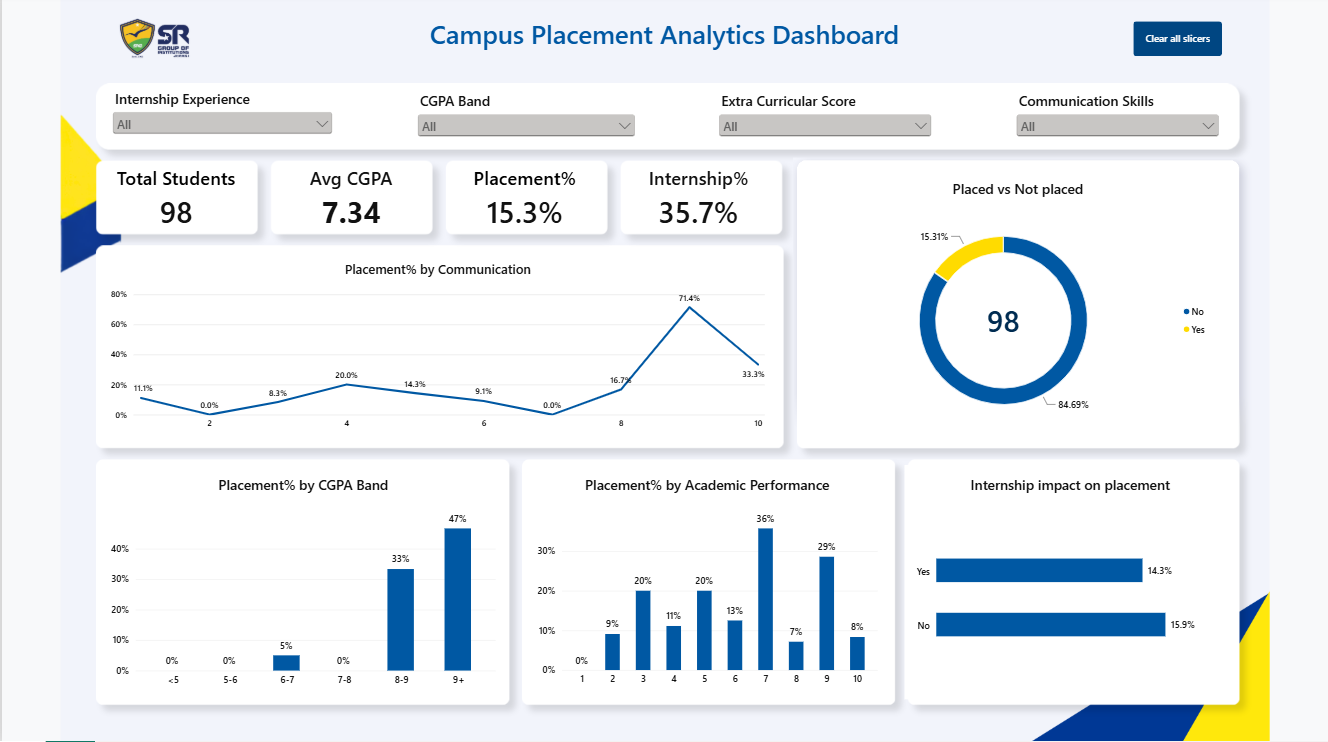

This screenshot's page, from the dashboard's own definition file:
{"tool":"powerbi","page":{"name":"Overview","canvas":[1920,1080],"ordinal":0},"visuals":[{"type":"textbox","box":[532.9,30.8,854.2,67],"z":0},{"type":"image","box":[141.2,29,159.3,67],"z":1},{"type":"actionButton","box":[1637.7,38,128.5,50.7],"z":2},{"type":"slicer","fields":{"Values":["college_student_placement_dataset.Internship_Experience"]},"box":[155.6,135.7,327.5,83.2],"z":3},{"type":"slicer","fields":{"Values":["college_student_placement_dataset.CGPA Band"]},"box":[596.6,139.3,323.9,79.6],"z":4},{"type":"slicer","fields":{"Values":["college_student_placement_dataset.Extra_Curricular_Score"]},"box":[1033.9,139.3,316.7,79.6],"z":5},{"type":"slicer","fields":{"Values":["college_student_placement_dataset.Communication_Skills"]},"box":[1464,139.3,302.2,79.6],"z":6},{"type":"cardVisual","fields":{"Data":["_Measures.Total Students"]},"box":[140.5,250.8,222.7,86.5],"z":7},{"type":"cardVisual","fields":{"Data":["_Measures.Avg CGPA"]},"box":[394.5,251.5,222.7,86.5],"z":8},{"type":"cardVisual","fields":{"Data":["_Measures.Placement%"]},"box":[646.5,250.8,222.7,86.5],"z":9},{"type":"cardVisual","fields":{"Data":["_Measures.Internship%"]},"box":[897.3,250.8,222.7,86.5],"z":10},{"type":"lineChart","title":"Placement% by Communication","fields":{"Category":["college_student_placement_dataset.Communication_Skills"],"Y":["_Measures.Placement%"]},"box":[140.5,369.7,979.5,278.9],"z":11},{"type":"clusteredBarChart","title":"Internship impact on placement","fields":{"Category":["college_student_placement_dataset.Internship_Experience"],"Y":["_Measures.Placement%"]},"box":[1305.9,681.1,480,339.5],"z":12},{"type":"donutChart","title":"Placed vs Not placed","fields":{"Category":["college_student_placement_dataset.Placement"],"Y":["_Measures.Total Students"]},"box":[1174.1,250.8,592.4,397.8],"z":13},{"type":"clusteredColumnChart","title":"Placement% by CGPA Band","fields":{"Category":["college_student_placement_dataset.CGPA Band"],"Y":["_Measures.Placement%"]},"box":[141.2,680.4,589.9,340.2],"z":14},{"type":"clusteredColumnChart","title":"Placement% by Academic Performance","fields":{"Category":["college_student_placement_dataset.Academic_Performance"],"Y":["_Measures.Placement%"]},"box":[758.9,681.1,525.4,339.5],"z":15}]}

Visuals, with their boxes in screenshot pixels (x1, y1, x2, y2), scaled from the page's 1920x1080 canvas onto the 1328x742 screenshot:
textbox: <region>369, 21, 959, 67</region>
image: <region>98, 20, 208, 66</region>
actionButton: <region>1133, 26, 1222, 61</region>
slicer - college_student_placement_dataset.Internship_Experience: <region>108, 93, 334, 150</region>
slicer - college_student_placement_dataset.CGPA Band: <region>413, 96, 637, 150</region>
slicer - college_student_placement_dataset.Extra_Curricular_Score: <region>715, 96, 934, 150</region>
slicer - college_student_placement_dataset.Communication_Skills: <region>1013, 96, 1222, 150</region>
cardVisual - _Measures.Total Students: <region>97, 172, 251, 232</region>
cardVisual - _Measures.Avg CGPA: <region>273, 173, 427, 232</region>
cardVisual - _Measures.Placement%: <region>447, 172, 601, 232</region>
cardVisual - _Measures.Internship%: <region>621, 172, 775, 232</region>
"Placement% by Communication" lineChart: <region>97, 254, 775, 446</region>
"Internship impact on placement" clusteredBarChart: <region>903, 468, 1235, 701</region>
"Placed vs Not placed" donutChart: <region>812, 172, 1222, 446</region>
"Placement% by CGPA Band" clusteredColumnChart: <region>98, 467, 506, 701</region>
"Placement% by Academic Performance" clusteredColumnChart: <region>525, 468, 888, 701</region>
